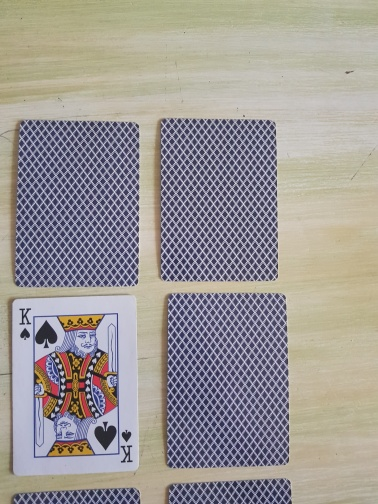king: (12, 294, 139, 475)
